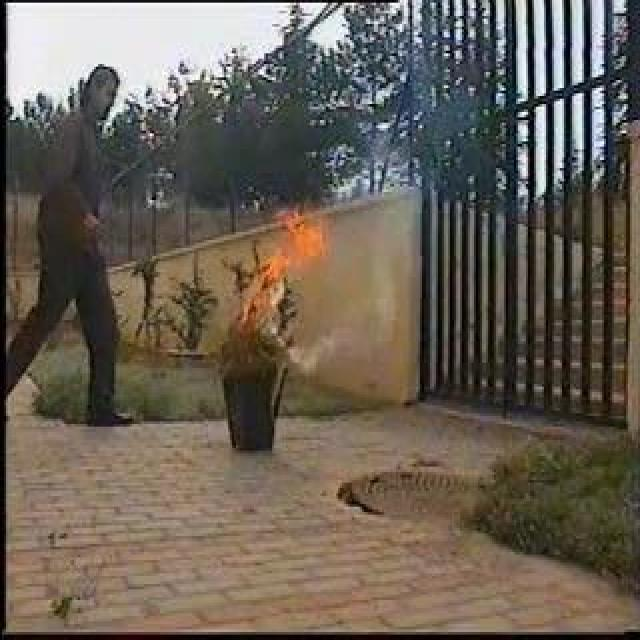fire: (248, 213, 318, 304)
